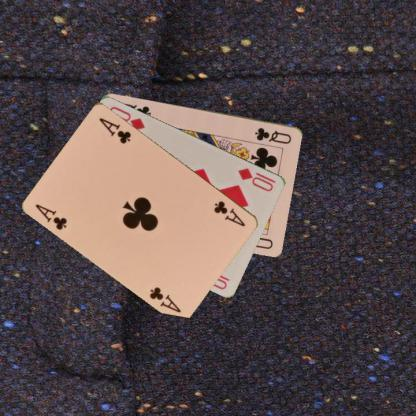10d: (235, 165, 278, 194)
Ac: (33, 201, 69, 232), (212, 198, 247, 228)
Qc: (252, 124, 293, 145)
